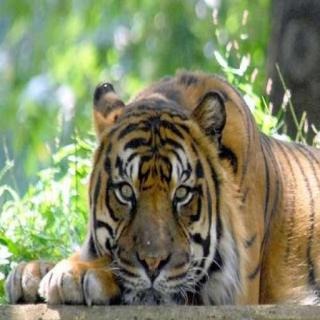Tiger: (4, 62, 320, 312)
